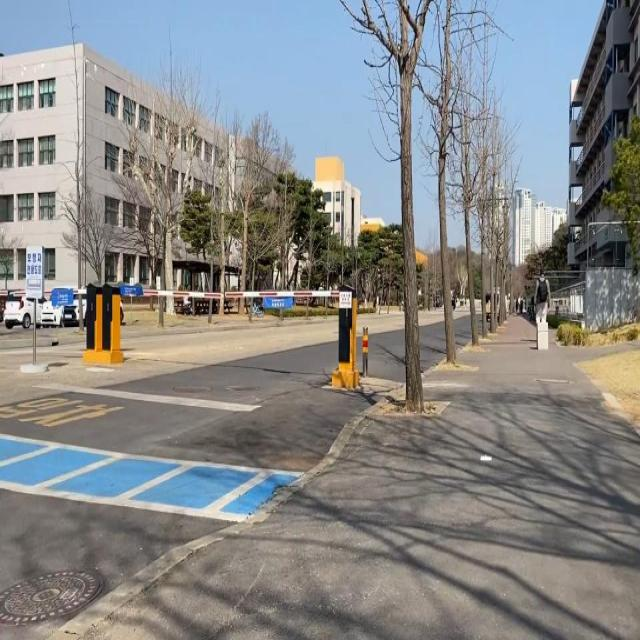sidewalk: (0, 315, 640, 640)
